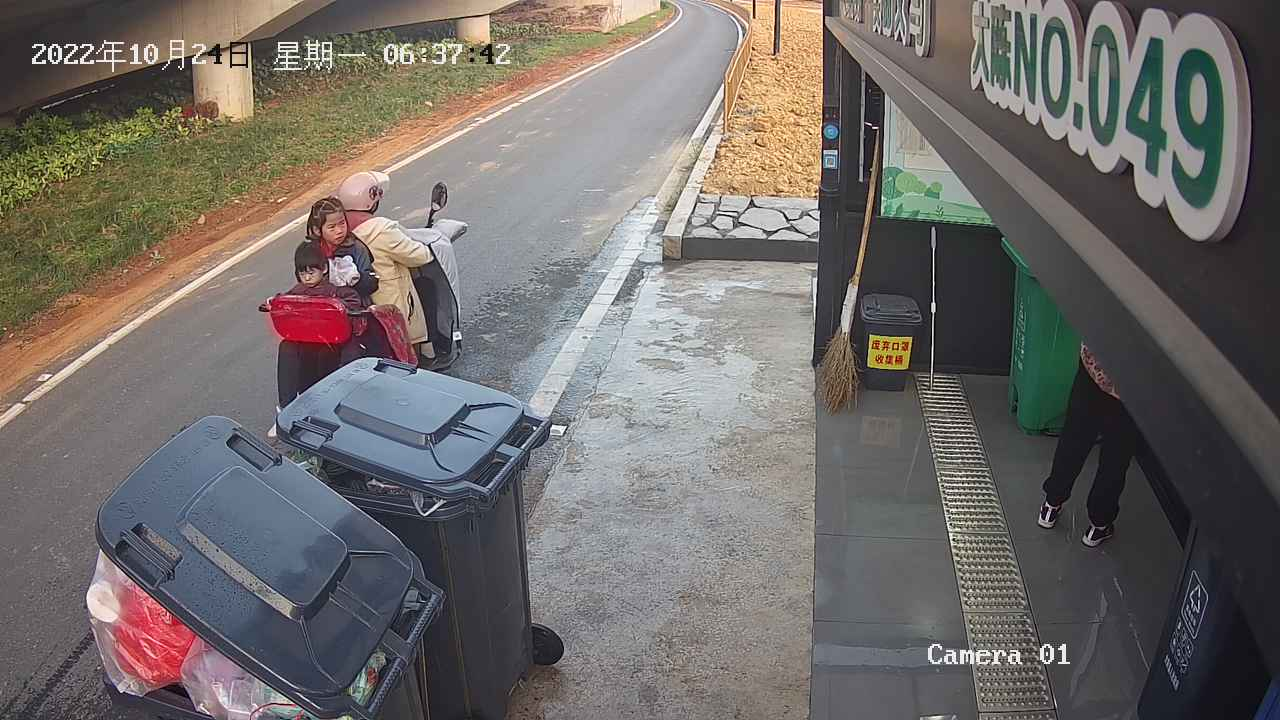person: (255, 162, 447, 381)
